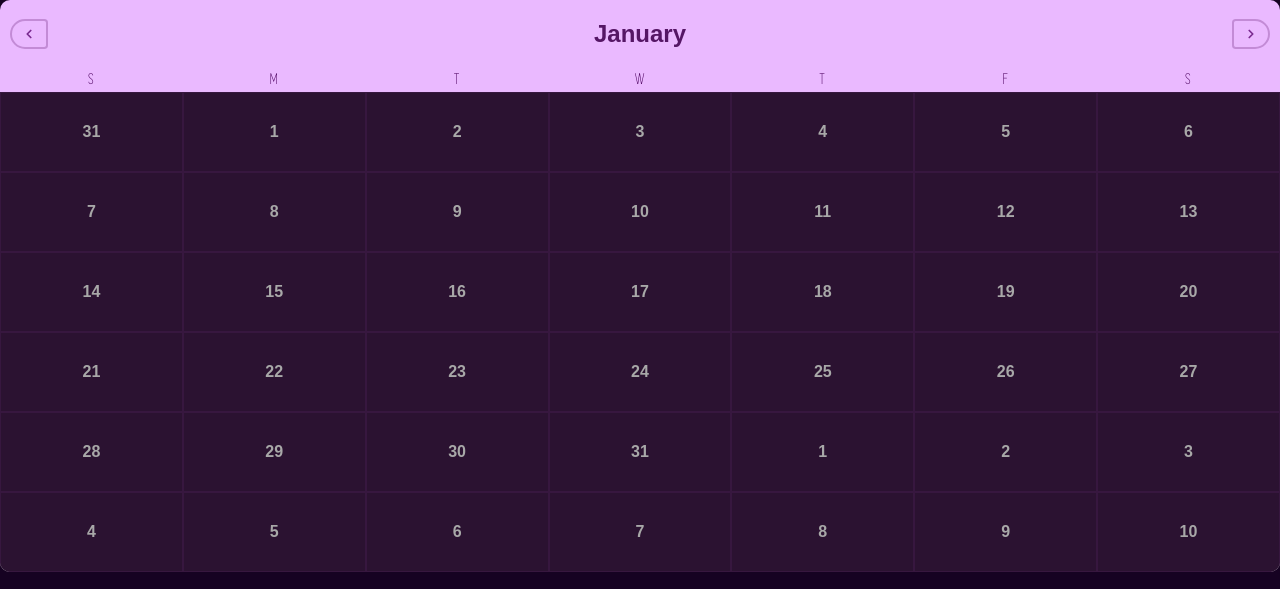
Test case: month navigation › rolls the year backward when navigating before January
Expected: the heading "January" is shown, x1=594 y1=20 x2=686 y2=47
Click the button named "Previous month" at (29, 34), box x1=10 y1=19 x2=48 y2=49
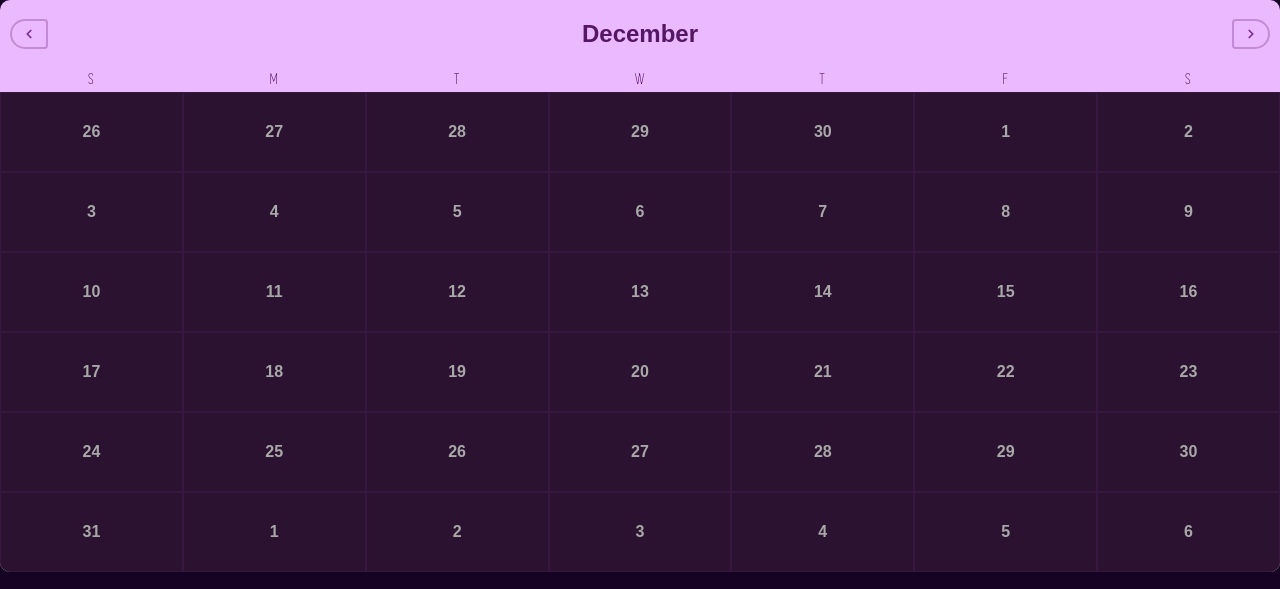
Now the heading "December" is shown, box x1=582 y1=20 x2=698 y2=47
